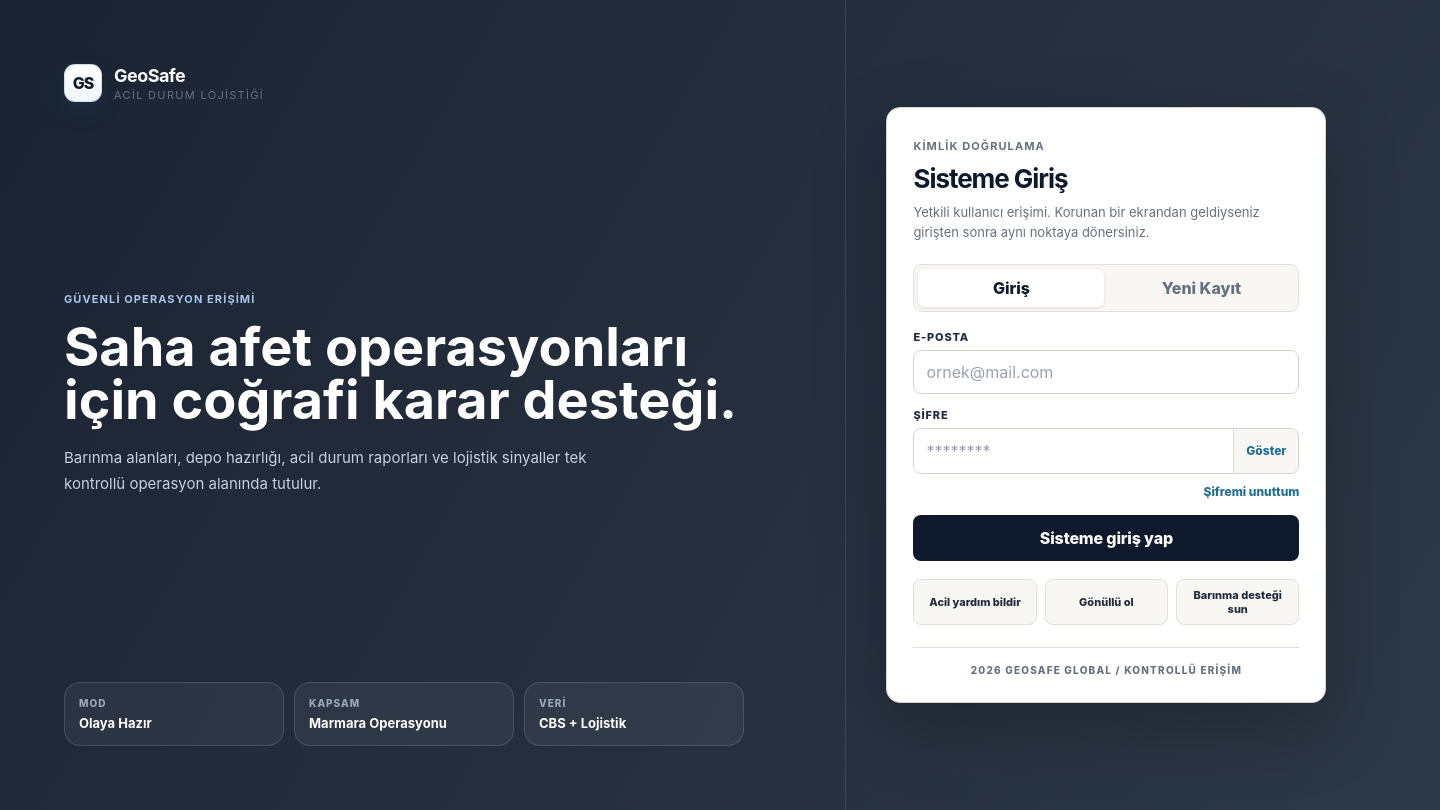
LoginPage › shows the register form when the register tab is clicked
Click the tab "Yeni Kayıt" at [1201, 288], box top-left (1108, 269), bottom-right (1294, 307)
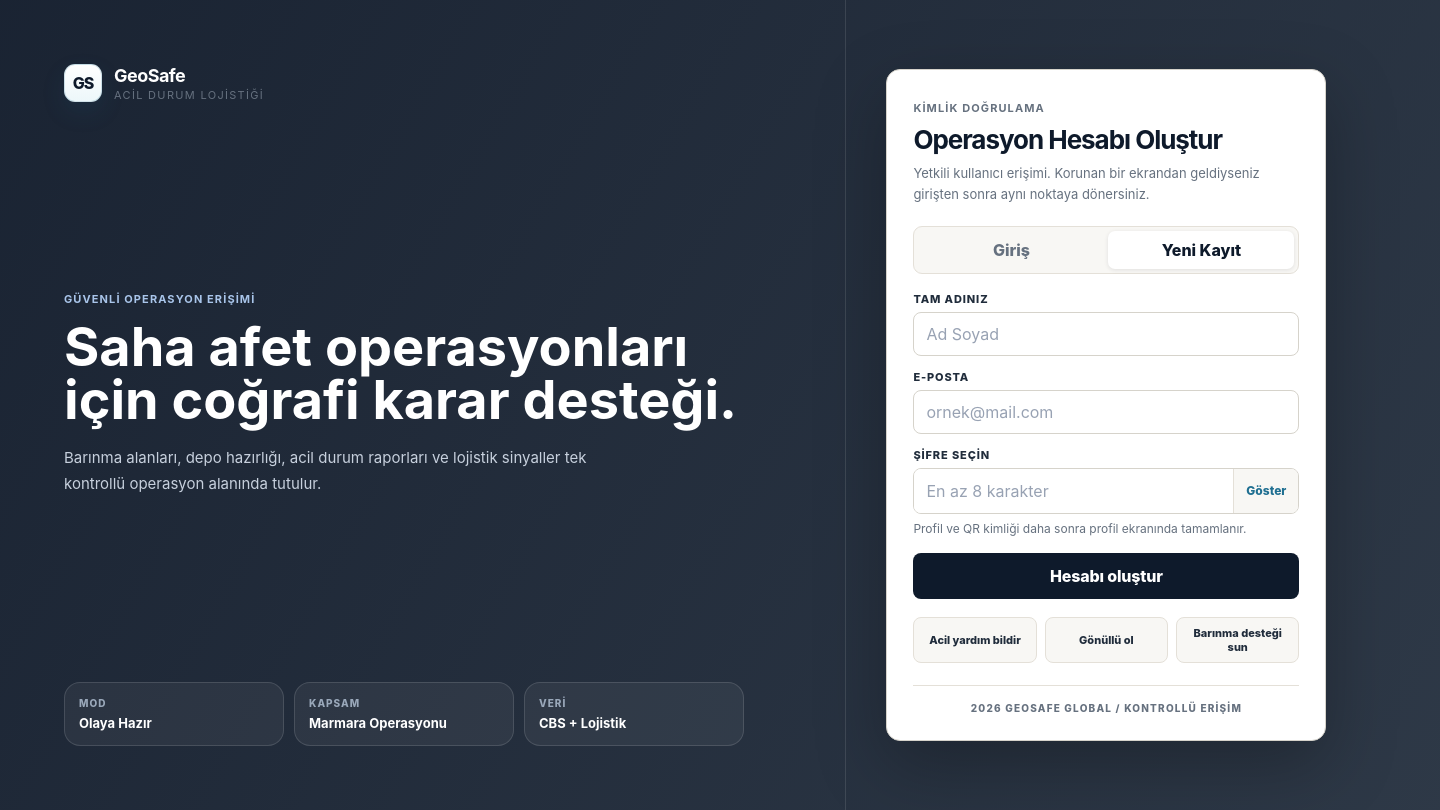
Expected: the field labelled "Tam adınız" is shown, top-left (913, 312), bottom-right (1299, 356)
Expected: the text "Hesabı Oluştur" is shown, top-left (913, 124), bottom-right (1222, 155)
